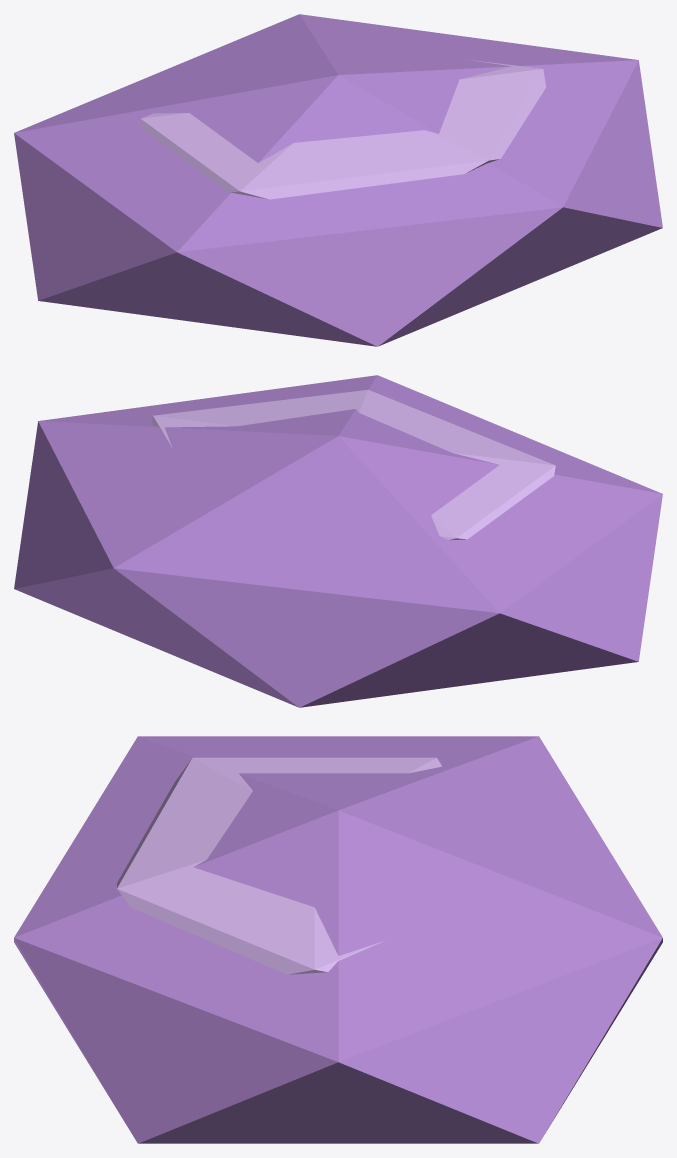
Rendered from floor_cushion.glb.
3 renders of one model, top to bottom at view 1: azimuth 30°, elevation 25°; view 2: azimuth 150°, elevation 25°; view 3: azimuth 270°, elevation 25°, orthographic. The views are drawn at different scales.
Parts seen in each view (by area): view 1: floor_cushion; view 2: floor_cushion; view 3: floor_cushion.
Part boxes in pixels (x1,y1,x2,y2): floor_cushion: [14, 14, 662, 346]; floor_cushion: [14, 375, 662, 707]; floor_cushion: [14, 736, 662, 1143].
Bounding box in the file's own units: 1.79 × 0.6 × 1.36.
